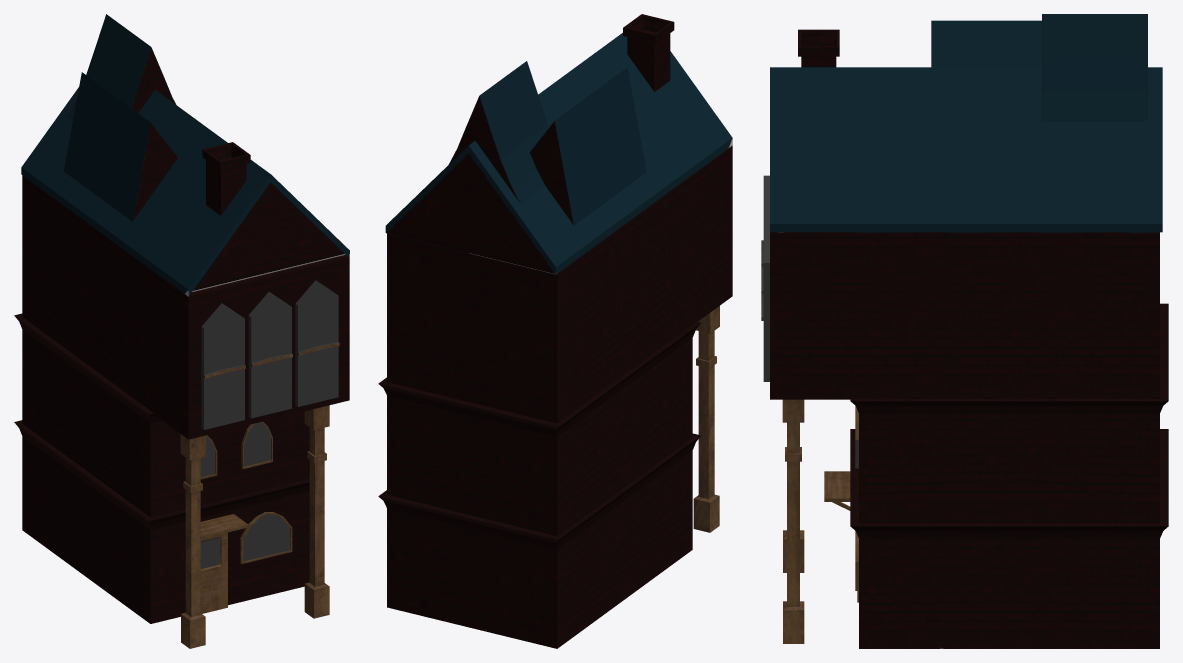
File: ThinnerHouse.fbx
3 views of the same model, side by side, from view 1: azimuth 30°, elevation 25°; view 2: azimuth 150°, elevation 25°; view 3: azimuth 270°, elevation 25° (orthographic). The views are drawn at different scales.
Parts seen in each view (by area): view 1: Cube.009; view 2: Cube.009; view 3: Cube.009.
Part boxes in pixels (bbox=[...]): Cube.009: bbox=[14, 14, 349, 648]; Cube.009: bbox=[378, 14, 732, 648]; Cube.009: bbox=[761, 14, 1168, 648].
Bounding box in the file's own units: 418 × 1180 × 737.
1 material, 1 textured.
